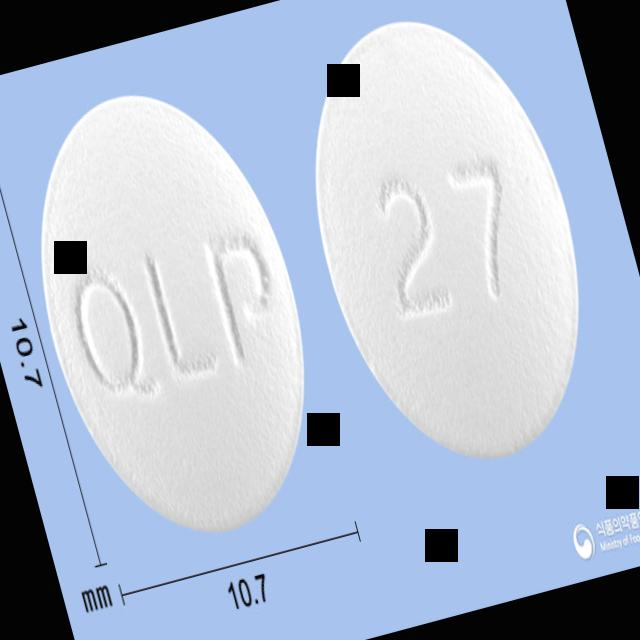Cyrus: (0, 59, 349, 562), (268, 0, 625, 487)
